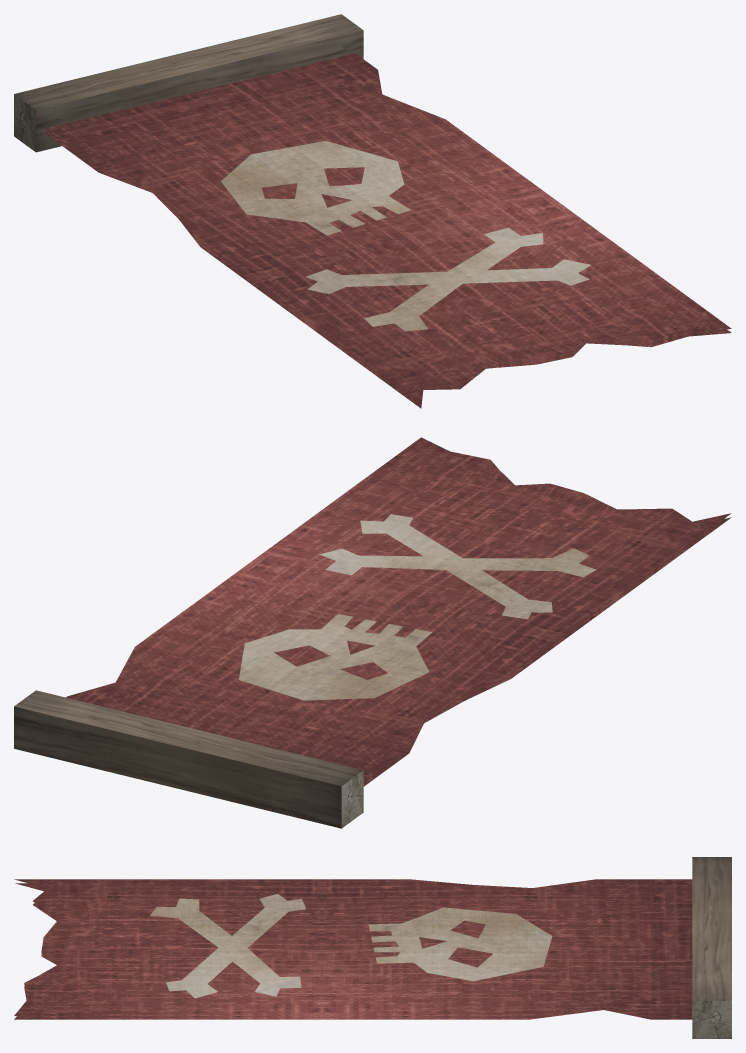
Rendered from Pirate_Banner_Skull_B.fbx.
3 views of the same model, one above another, from view 1: azimuth 30°, elevation 25°; view 2: azimuth 150°, elevation 25°; view 3: azimuth 270°, elevation 25° (orthographic). The views are drawn at different scales.
Parts seen in each view (by area): view 1: Pirate_Banner_Skull_B; view 2: Pirate_Banner_Skull_B; view 3: Pirate_Banner_Skull_B.
Boxes of the visible parts, box(x1,y1,x2,y2) form: Pirate_Banner_Skull_B: box(14, 14, 731, 408); Pirate_Banner_Skull_B: box(14, 437, 731, 828); Pirate_Banner_Skull_B: box(14, 857, 731, 1038).
Size of the model in its own units: 1.2 by 0.1485 by 2.54.
